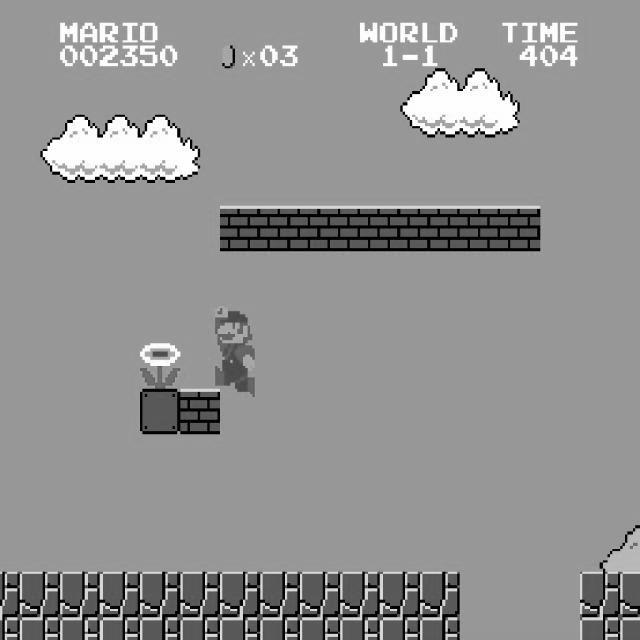0- big_mario: (212, 303, 255, 397)
1- brick_block: (180, 388, 220, 434), (220, 206, 260, 251), (260, 206, 300, 251), (300, 206, 340, 251), (340, 206, 380, 251), (380, 206, 420, 251), (420, 206, 460, 251), (460, 206, 500, 251), (500, 206, 540, 251)
17- undestructible_block: (20, 572, 60, 618), (60, 572, 100, 618), (100, 572, 140, 618), (140, 572, 180, 618), (180, 572, 220, 618), (220, 572, 260, 618), (260, 572, 300, 618), (300, 572, 340, 618), (340, 572, 380, 618), (380, 572, 420, 618), (420, 572, 460, 618), (580, 572, 620, 618), (0, 572, 20, 618), (620, 572, 640, 618), (20, 617, 60, 640), (60, 617, 100, 640), (100, 617, 140, 640), (140, 617, 180, 640), (180, 617, 220, 640), (220, 617, 260, 640), (260, 617, 300, 640), (300, 617, 340, 640), (340, 617, 380, 640), (380, 617, 420, 640), (420, 617, 460, 640), (580, 617, 620, 640), (0, 617, 20, 640), (620, 617, 640, 640)
3- empty_block: (140, 388, 180, 434)
6- flower: (137, 341, 180, 388)
